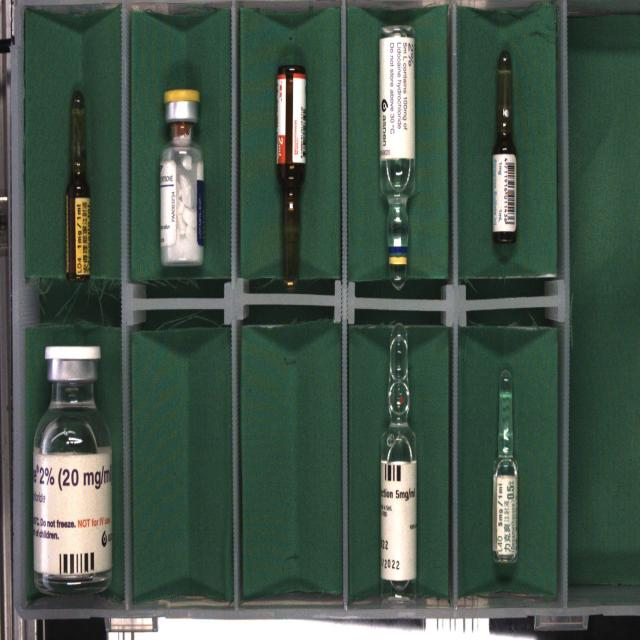Vials: (33, 346, 112, 594), (160, 90, 204, 265)
